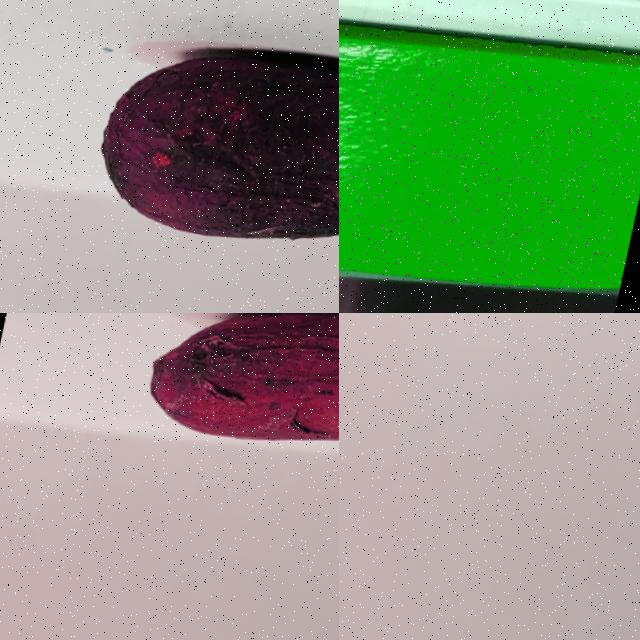Fine_cocoabeans: (58, 10, 338, 300), (100, 313, 338, 521)
